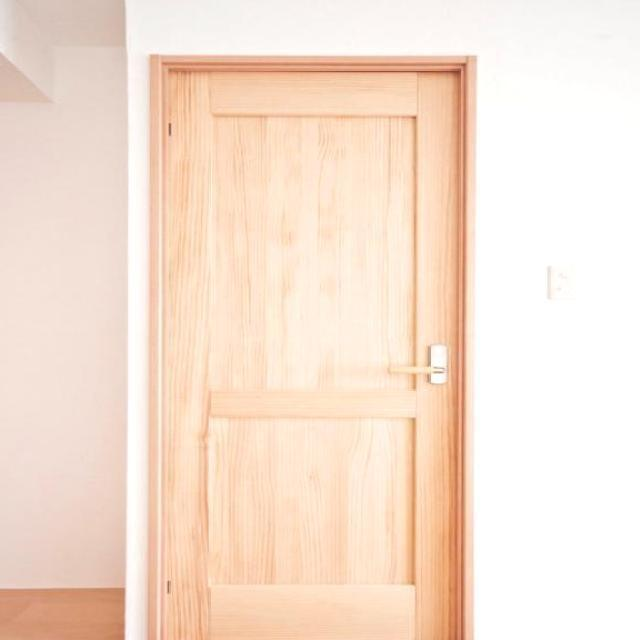door: (147, 54, 470, 639)
